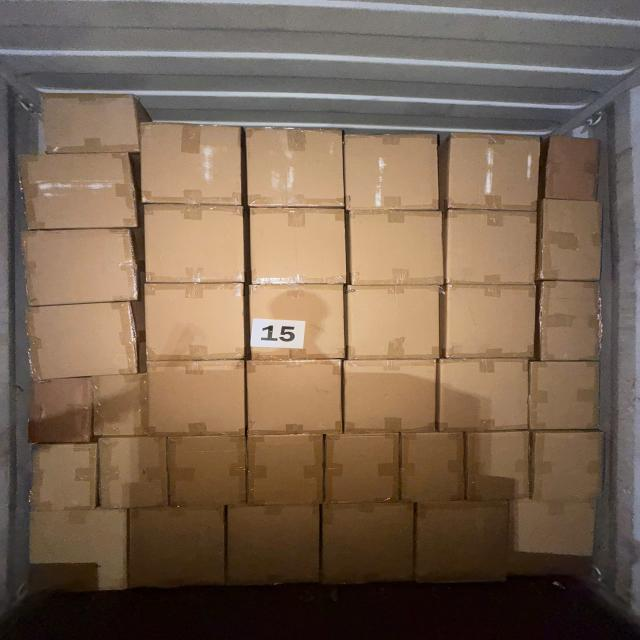Carton: (11, 146, 141, 229), (17, 299, 134, 379), (15, 230, 133, 308), (142, 119, 245, 207), (23, 509, 124, 598), (128, 507, 224, 595), (246, 128, 346, 212), (146, 204, 248, 286), (144, 280, 248, 360), (414, 501, 508, 589), (321, 504, 415, 590), (249, 205, 349, 285), (342, 134, 440, 215), (230, 506, 323, 591), (148, 361, 248, 439), (248, 282, 348, 359), (347, 208, 446, 285), (245, 361, 344, 438), (440, 131, 537, 209), (340, 360, 436, 437), (448, 207, 542, 285), (346, 283, 442, 359), (438, 357, 533, 433), (446, 282, 540, 358), (510, 504, 599, 584), (37, 90, 143, 156), (168, 432, 250, 507), (246, 430, 324, 506), (324, 433, 402, 505), (537, 282, 604, 365), (98, 434, 170, 510), (532, 430, 606, 503), (538, 197, 602, 280), (26, 441, 100, 512), (528, 358, 600, 430), (465, 430, 532, 503), (400, 431, 466, 505), (30, 378, 95, 446), (544, 131, 602, 204), (93, 375, 150, 440)
